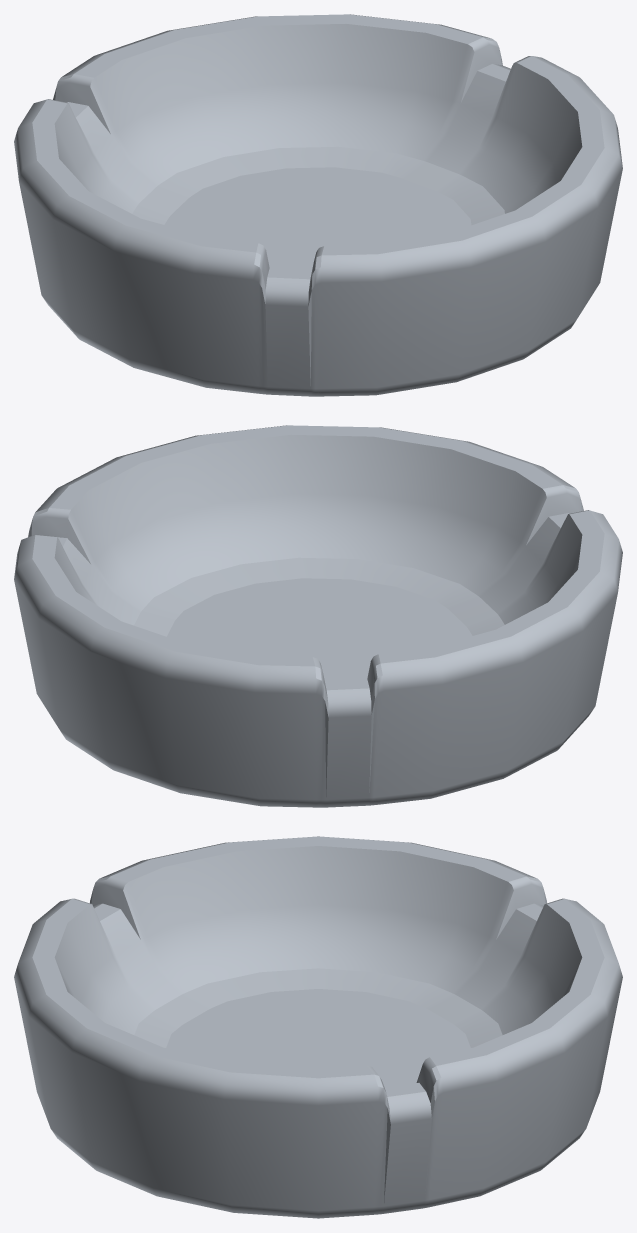
Rendered from Ashtray_70s_v1.fbx.
3 renders of one model, top to bottom at view 1: azimuth 30°, elevation 25°; view 2: azimuth 150°, elevation 25°; view 3: azimuth 270°, elevation 25°, orthographic.
Visible parts, largest first — view 1: P_Ashtray_70s_1; view 2: P_Ashtray_70s_1; view 3: P_Ashtray_70s_1.
Part boxes in pixels (box(x1,y1,x2,y2)): P_Ashtray_70s_1: box(14, 14, 622, 396); P_Ashtray_70s_1: box(14, 425, 622, 807); P_Ashtray_70s_1: box(14, 836, 622, 1218).
Size of the model in its own units: 1.06 by 0.2865 by 1.06.
